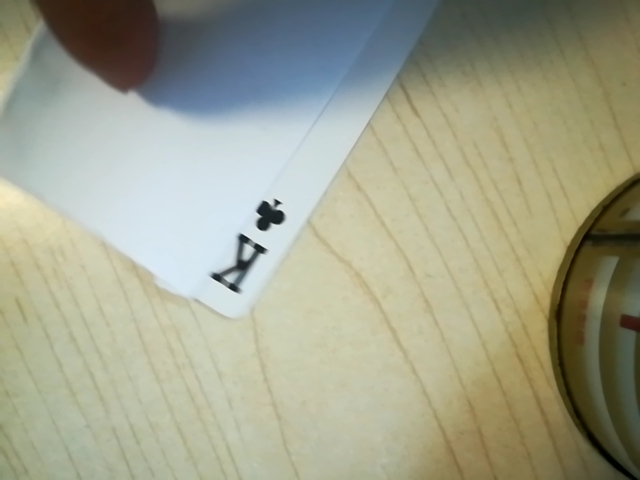mh k: (201, 187, 294, 296)
